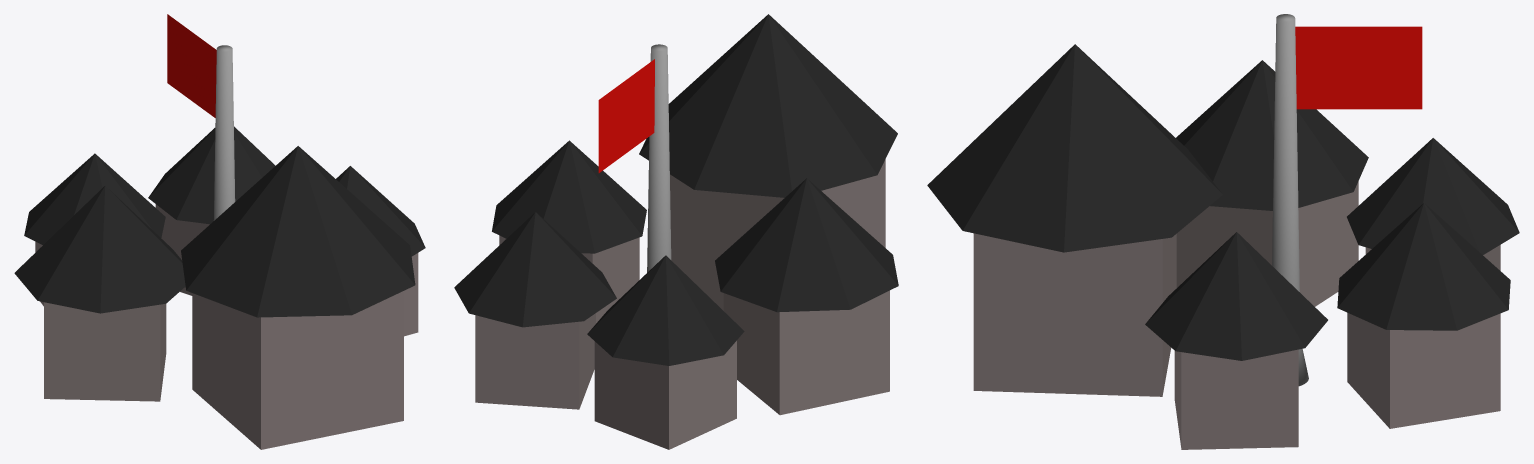
Rendered from MarketPlace1.fbx.
The picture shows the model from 3 angles, left to right: view 1: azimuth 30°, elevation 25°; view 2: azimuth 150°, elevation 25°; view 3: azimuth 270°, elevation 25°; orthographic projection. The views are drawn at different scales.
Visible parts, largest first — view 1: House.003, House.002, Cylinder, House, House.001, House.004; view 2: House.003, House.002, House.001, House, House.004, Cylinder; view 3: House.003, House, House.004, House.002, Cylinder, House.001.
Part boxes in pixels (left/top/right/bottom): House.003: left=181, top=146, right=415, bottom=449; House.002: left=14, top=185, right=185, bottom=401; Cylinder: left=167, top=14, right=235, bottom=220; House: left=148, top=126, right=275, bottom=295; House.001: left=24, top=153, right=165, bottom=306; House.004: left=336, top=166, right=425, bottom=336; House.003: left=639, top=14, right=897, bottom=310; House.002: left=715, top=178, right=898, bottom=415; House.001: left=587, top=255, right=744, bottom=449; House: left=454, top=212, right=616, bottom=409; House.004: left=492, top=140, right=646, bottom=323; Cylinder: left=598, top=44, right=671, bottom=272; House.003: left=927, top=44, right=1222, bottom=396; House: left=1337, top=203, right=1510, bottom=428; House.004: left=1145, top=232, right=1327, bottom=449; House.002: left=1176, top=60, right=1368, bottom=306; Cylinder: left=1272, top=14, right=1422, bottom=386; House.001: left=1347, top=138, right=1519, bottom=270.
Size of the model in its own units: 801 by 611 by 911.
